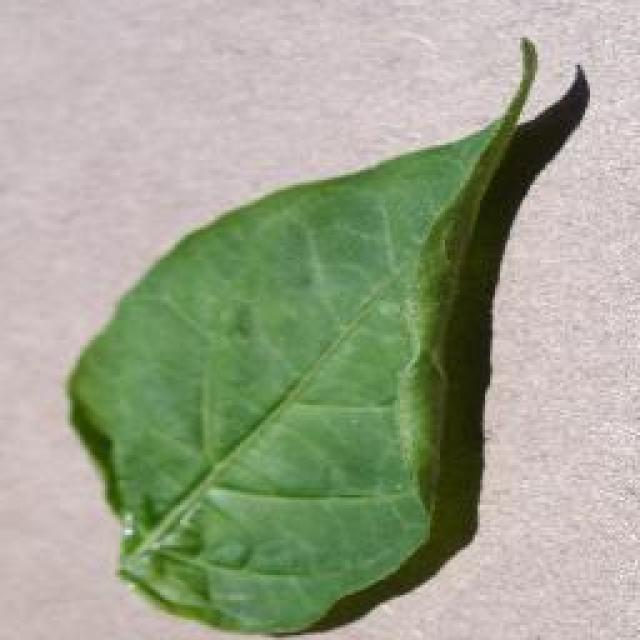Leaf: (52, 78, 579, 617)
